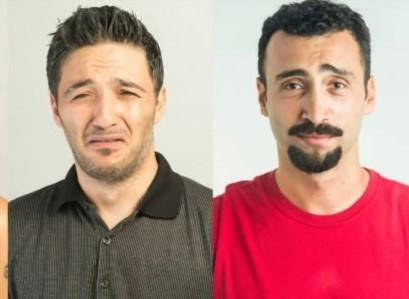surpreso: (254, 0, 380, 194)
triste: (38, 0, 171, 195)
